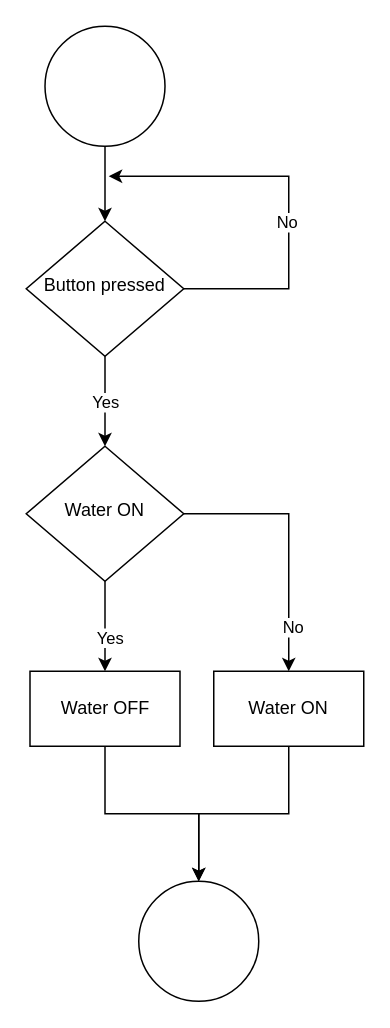
Some shapes in this 390 by 1028 pixel diagram are drawn without their labels. The shapes that lost their labels are listed below. From the top down, each one's centre as x and y in pixels, then its label:
(104,85): Start
(198,940): End
